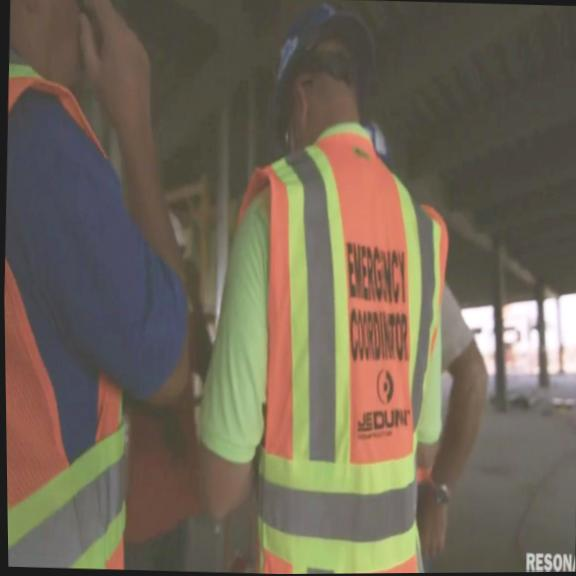safety_vest: (219, 122, 457, 574), (1, 53, 143, 570)
